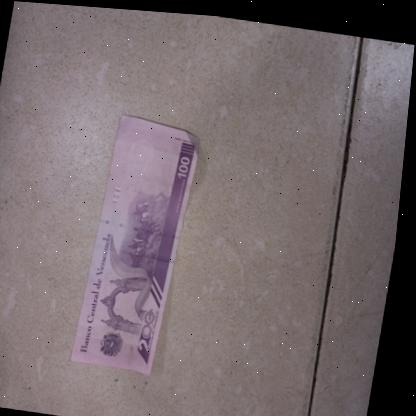one_hundred-back-vef: (75, 108, 207, 376)
